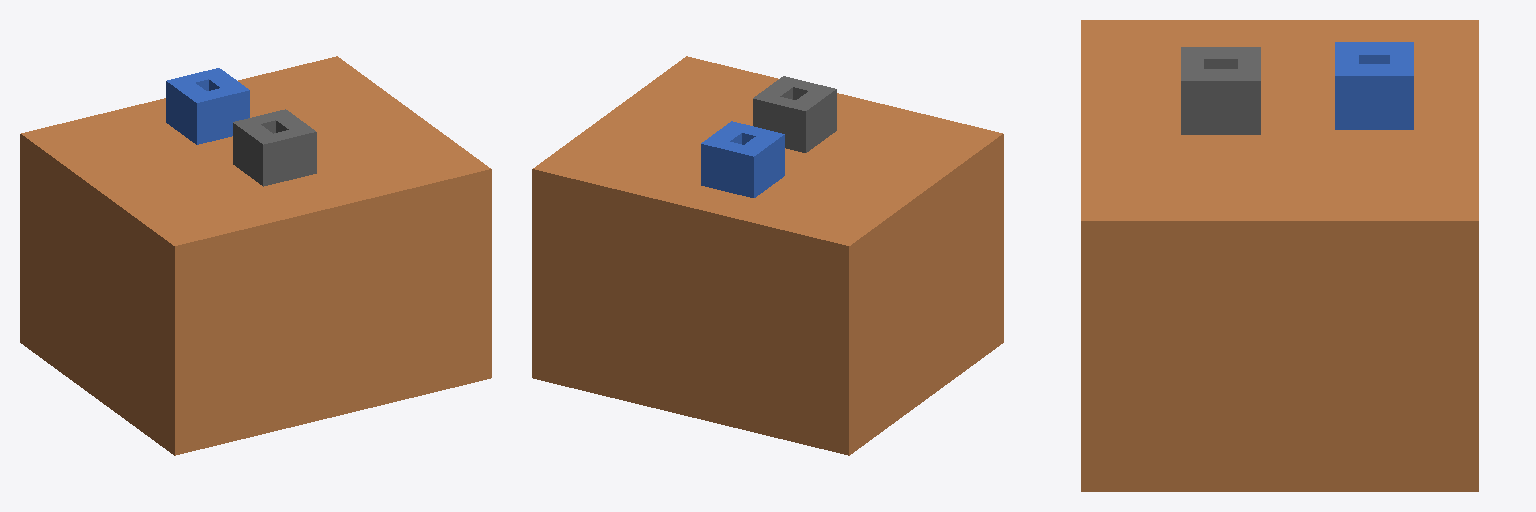
The robot description file, URDF, robot "peg_in_hole_fixtured_scene_0000_peg0001_tol01":
<?xml version="1.0"?>
<robot name="peg_in_hole_fixtured_scene_0000_peg0001_tol01">
  <material name="wood"><color rgba="0.82 0.56 0.35 1.0"/></material>
  <material name="start_fix"><color rgba="0.30 0.50 0.85 1.0"/></material>
  <material name="goal_fix"><color rgba="0.4706 0.4706 0.4706 1.0"/></material>
  <link name="box">
    <visual>
      <origin xyz="0.000000 0.000000 0.000000" rpy="0 0 0"/>
      <geometry><box size="0.475000 0.400000 0.300000"/></geometry>
      <material name="wood"/>
    </visual>
    <collision>
      <origin xyz="0.000000 0.000000 0.000000" rpy="0 0 0"/>
      <geometry><box size="0.475000 0.400000 0.300000"/></geometry>
    </collision>
    <visual>
      <origin xyz="-0.017174 0.094824 0.155000" rpy="0 0 0"/>
      <geometry><box size="0.080000 0.080000 0.010000"/></geometry>
      <material name="start_fix"/>
    </visual>
    <collision>
      <origin xyz="-0.017174 0.094824 0.155000" rpy="0 0 0"/>
      <geometry><box size="0.080000 0.080000 0.010000"/></geometry>
    </collision>
    <visual>
      <origin xyz="0.008076 0.094824 0.185000" rpy="0 0 0"/>
      <geometry><box size="0.029500 0.080000 0.050000"/></geometry>
      <material name="start_fix"/>
    </visual>
    <collision>
      <origin xyz="0.008076 0.094824 0.185000" rpy="0 0 0"/>
      <geometry><box size="0.029500 0.080000 0.050000"/></geometry>
    </collision>
    <visual>
      <origin xyz="-0.042424 0.094824 0.185000" rpy="0 0 0"/>
      <geometry><box size="0.029500 0.080000 0.050000"/></geometry>
      <material name="start_fix"/>
    </visual>
    <collision>
      <origin xyz="-0.042424 0.094824 0.185000" rpy="0 0 0"/>
      <geometry><box size="0.029500 0.080000 0.050000"/></geometry>
    </collision>
    <visual>
      <origin xyz="-0.017174 0.122574 0.185000" rpy="0 0 0"/>
      <geometry><box size="0.021000 0.024500 0.050000"/></geometry>
      <material name="start_fix"/>
    </visual>
    <collision>
      <origin xyz="-0.017174 0.122574 0.185000" rpy="0 0 0"/>
      <geometry><box size="0.021000 0.024500 0.050000"/></geometry>
    </collision>
    <visual>
      <origin xyz="-0.017174 0.067074 0.185000" rpy="0 0 0"/>
      <geometry><box size="0.021000 0.024500 0.050000"/></geometry>
      <material name="start_fix"/>
    </visual>
    <collision>
      <origin xyz="-0.017174 0.067074 0.185000" rpy="0 0 0"/>
      <geometry><box size="0.021000 0.024500 0.050000"/></geometry>
    </collision>
    <visual>
      <origin xyz="-0.006004 -0.058878 0.155000" rpy="0 0 0"/>
      <geometry><box size="0.080000 0.080000 0.010000"/></geometry>
      <material name="goal_fix"/>
    </visual>
    <collision>
      <origin xyz="-0.006004 -0.058878 0.155000" rpy="0 0 0"/>
      <geometry><box size="0.080000 0.080000 0.010000"/></geometry>
    </collision>
    <visual>
      <origin xyz="0.019936 -0.058878 0.185000" rpy="0 0 0"/>
      <geometry><box size="0.028121 0.080000 0.050000"/></geometry>
      <material name="goal_fix"/>
    </visual>
    <collision>
      <origin xyz="0.019936 -0.058878 0.185000" rpy="0 0 0"/>
      <geometry><box size="0.028121 0.080000 0.050000"/></geometry>
    </collision>
    <visual>
      <origin xyz="-0.031943 -0.058878 0.185000" rpy="0 0 0"/>
      <geometry><box size="0.028121 0.080000 0.050000"/></geometry>
      <material name="goal_fix"/>
    </visual>
    <collision>
      <origin xyz="-0.031943 -0.058878 0.185000" rpy="0 0 0"/>
      <geometry><box size="0.028121 0.080000 0.050000"/></geometry>
    </collision>
    <visual>
      <origin xyz="-0.006004 -0.030438 0.185000" rpy="0 0 0"/>
      <geometry><box size="0.023758 0.023121 0.050000"/></geometry>
      <material name="goal_fix"/>
    </visual>
    <collision>
      <origin xyz="-0.006004 -0.030438 0.185000" rpy="0 0 0"/>
      <geometry><box size="0.023758 0.023121 0.050000"/></geometry>
    </collision>
    <visual>
      <origin xyz="-0.006004 -0.087317 0.185000" rpy="0 0 0"/>
      <geometry><box size="0.023758 0.023121 0.050000"/></geometry>
      <material name="goal_fix"/>
    </visual>
    <collision>
      <origin xyz="-0.006004 -0.087317 0.185000" rpy="0 0 0"/>
      <geometry><box size="0.023758 0.023121 0.050000"/></geometry>
    </collision>
    <inertial>
      <mass value="500"/>
      <friction value="1.0"/>
      <inertia ixx="1000.0" ixy="0.0" ixz="0.0" iyy="1000.0" iyz="0.0" izz="1000.0"/>
    </inertial>
  </link>
</robot>

--- Render facts (derived) ---
3 views of the same robot in one strip: view 1: azimuth 30°, elevation 25°; view 2: azimuth 150°, elevation 25°; view 3: azimuth 270°, elevation 25° (orthographic).
Robot: peg_in_hole_fixtured_scene_0000_peg0001_tol01 — 1 links, 0 joints (none); root link box; default pose: all joints at 0.
Links seen in each view (by area): view 1: box; view 2: box; view 3: box.
Boxes of the visible links, left/top/right/bottom form: box: left=20, top=56, right=491, bottom=455; box: left=532, top=56, right=1003, bottom=455; box: left=1081, top=20, right=1478, bottom=491.
Bounding box of the posed robot: 0.475 × 0.4 × 0.36 m (x, y, z).
Geometry: primitives only (box / cylinder / sphere), no mesh files.
